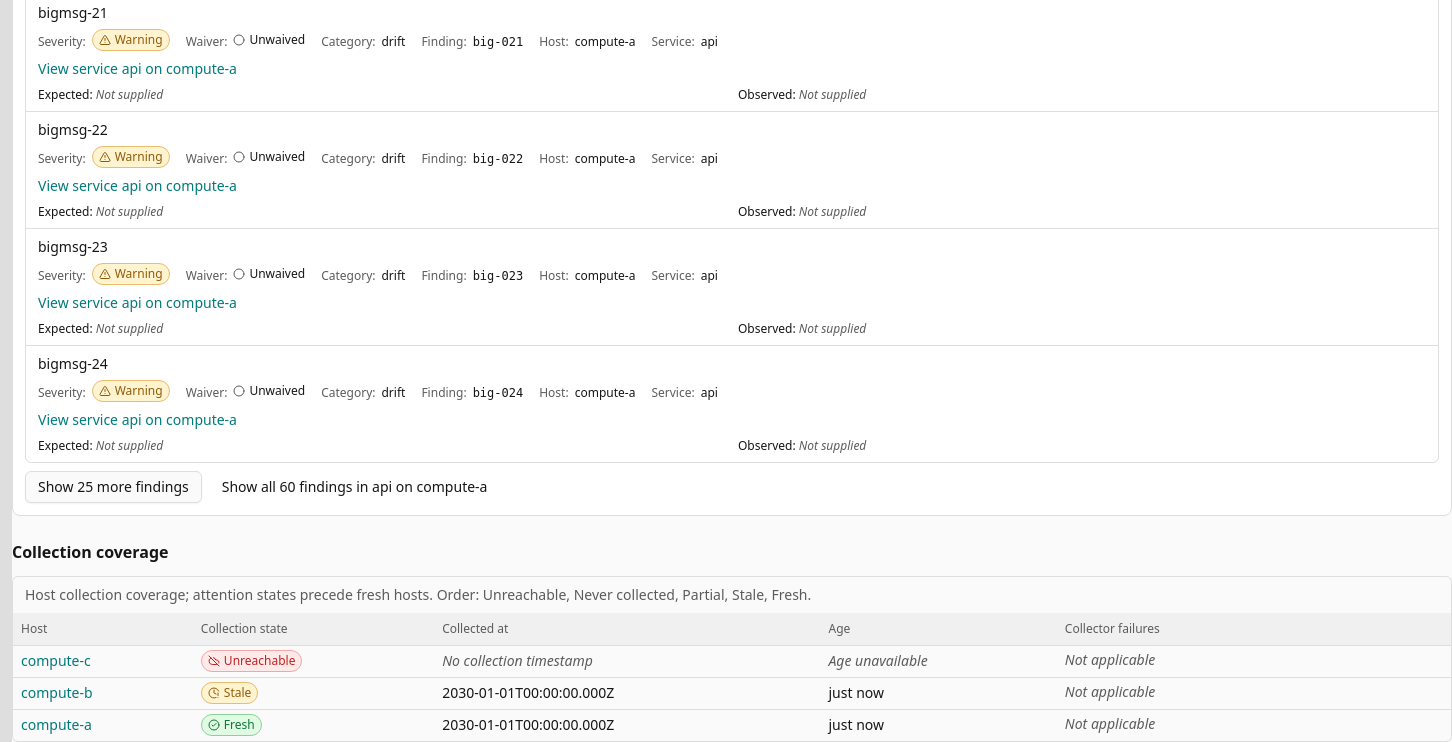
Test: progressive finding disclosure › reveals every finding through show-all
The width and height of the screenshot is (1452, 742).
(page scrolled)
Click the button "Show all 60 findings in api on compute-a".
click(355, 487)  # box [210, 471, 499, 503]
(page scrolled)
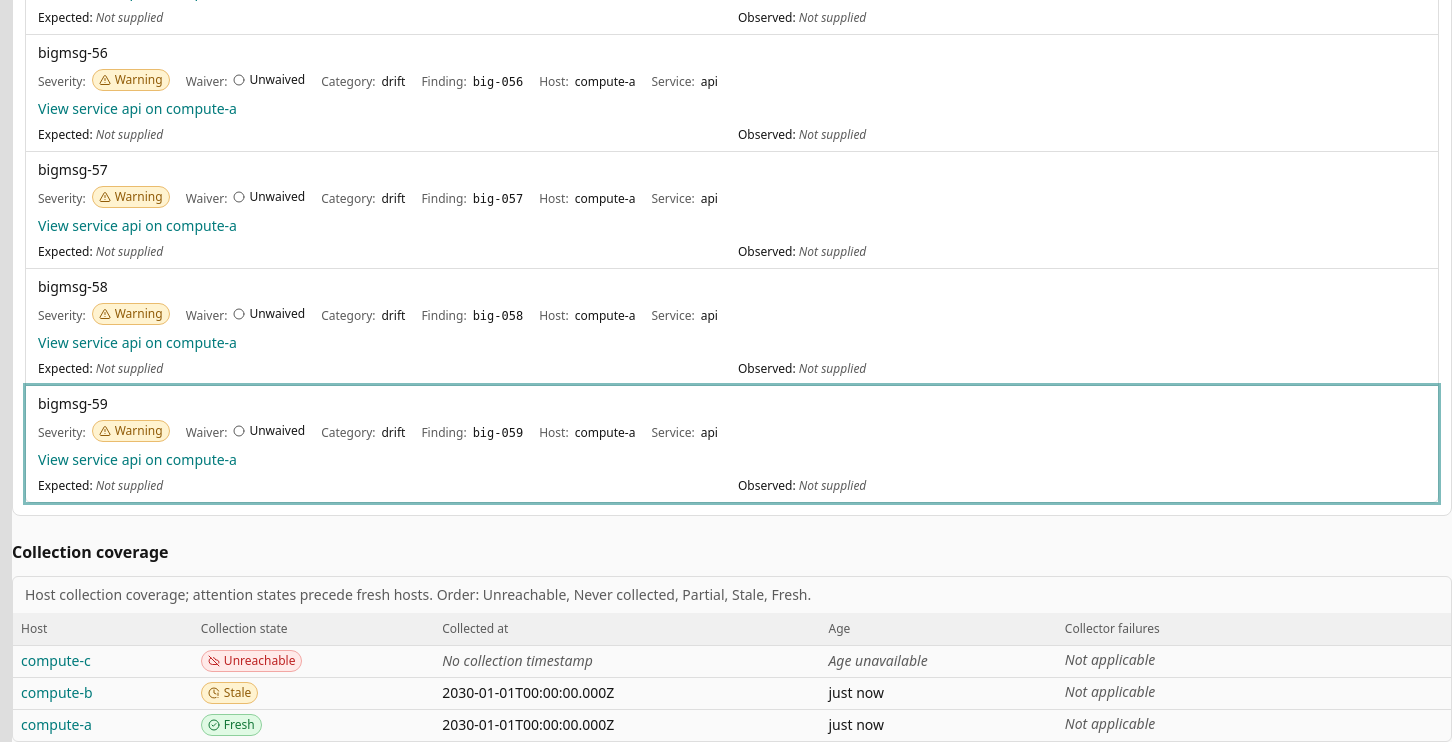
Result: the button "Show all 60 findings in api on compute-a" is gone
